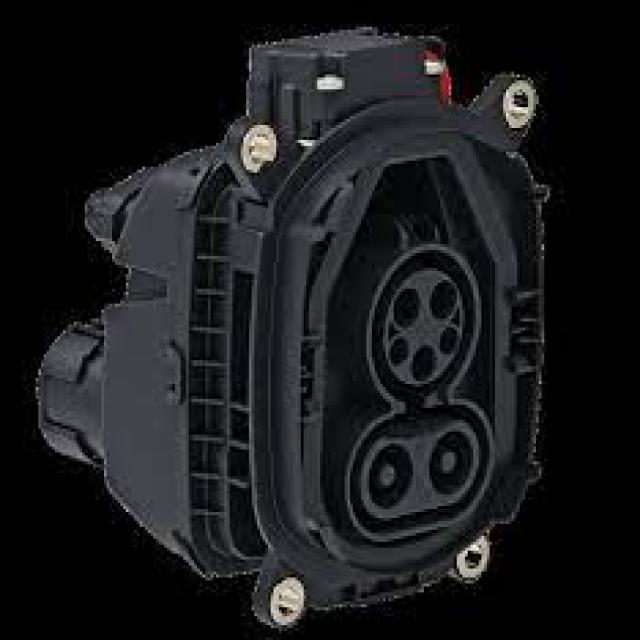CCS1: (342, 244, 498, 579)
